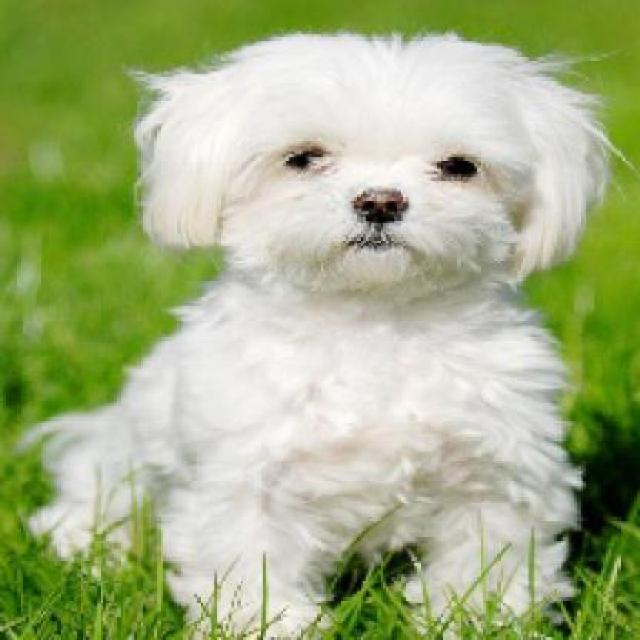Dog: (6, 17, 626, 637)
